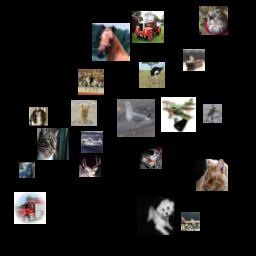airplane: (161, 97, 196, 132), (81, 131, 103, 153), (181, 212, 200, 231)
automobile: (140, 147, 162, 169)
bird: (117, 99, 155, 137), (199, 6, 228, 35), (139, 62, 165, 88), (203, 104, 222, 123)
cat: (196, 159, 228, 191), (37, 128, 69, 160), (71, 100, 97, 126)
deer: (79, 155, 101, 177)
dog: (137, 197, 175, 235), (29, 107, 48, 126)
ship: (183, 49, 205, 71)
truck: (132, 11, 164, 43), (14, 192, 46, 224), (19, 162, 35, 178)
